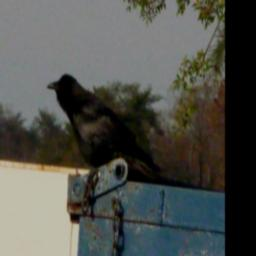Crow: (46, 72, 160, 180)
